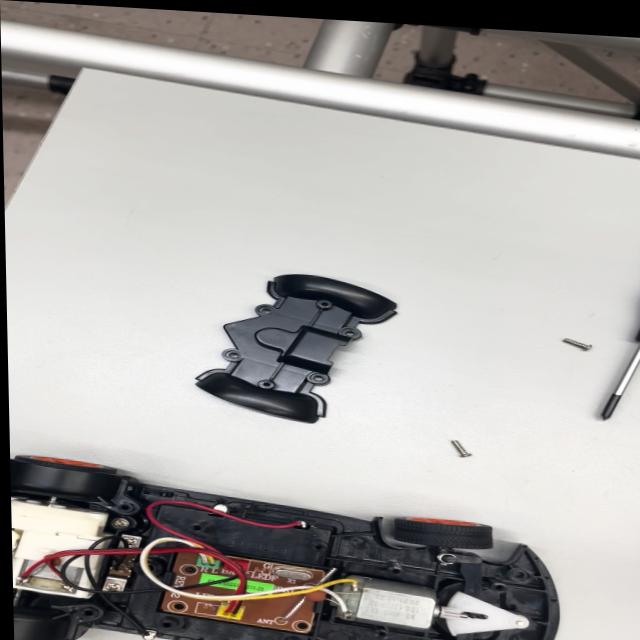Chassis: (10, 451, 577, 640)
motor: (334, 571, 476, 640)
motor_cover: (191, 255, 395, 433)
screw: (552, 331, 602, 355), (440, 434, 482, 462)
screw_driver: (586, 294, 640, 429)
wheel: (392, 511, 497, 557)
